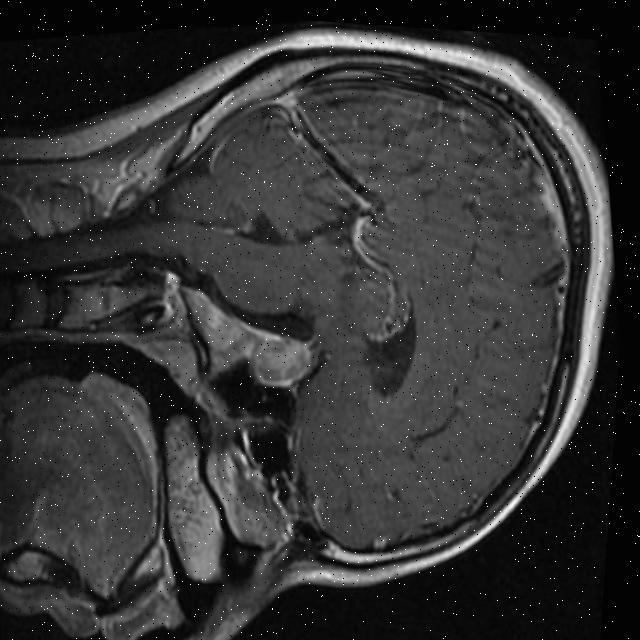Pituitary: (247, 326, 318, 395)
